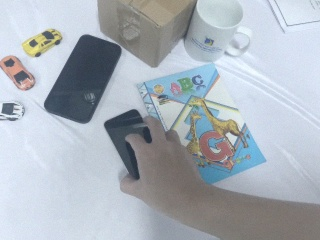book: (140, 62, 270, 187)
box: (106, 1, 197, 67)
cup: (183, 1, 253, 63)
phone: (42, 33, 123, 124), (102, 108, 150, 181)
toy_car: (1, 55, 36, 92), (22, 28, 63, 58), (1, 101, 25, 122)
